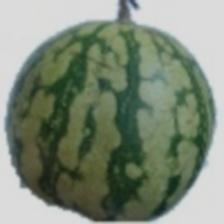watermelon: (29, 55, 204, 199)
